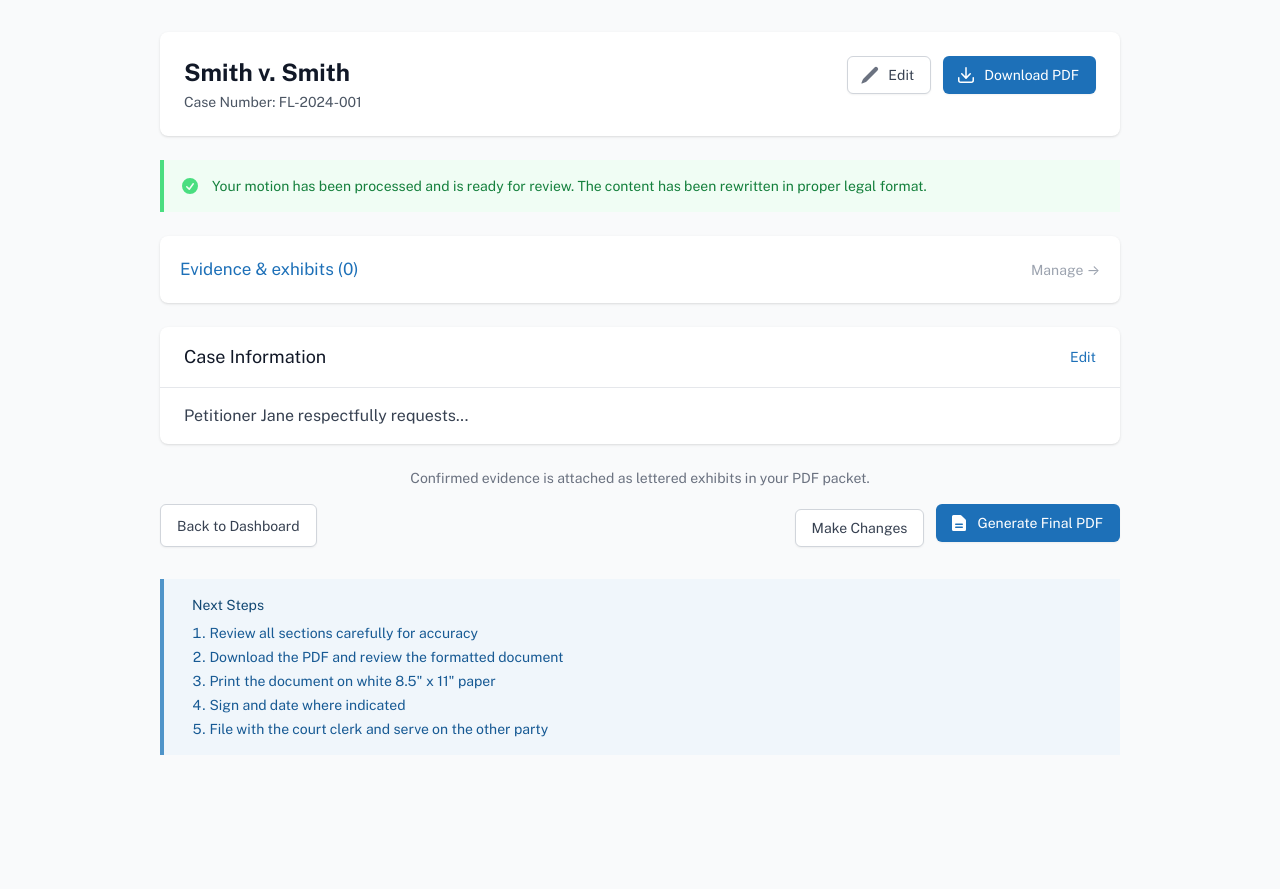
MotionPreview › shows the filing checklist only after the PDF is downloaded
The width and height of the screenshot is (1280, 889).
Expected: the heading "Smith v. Smith" is shown, [184,56,362,88]
Expected: the heading "filing checklist" is not shown
Click the button "Download PDF": click(1020, 75) [943,56,1096,94]
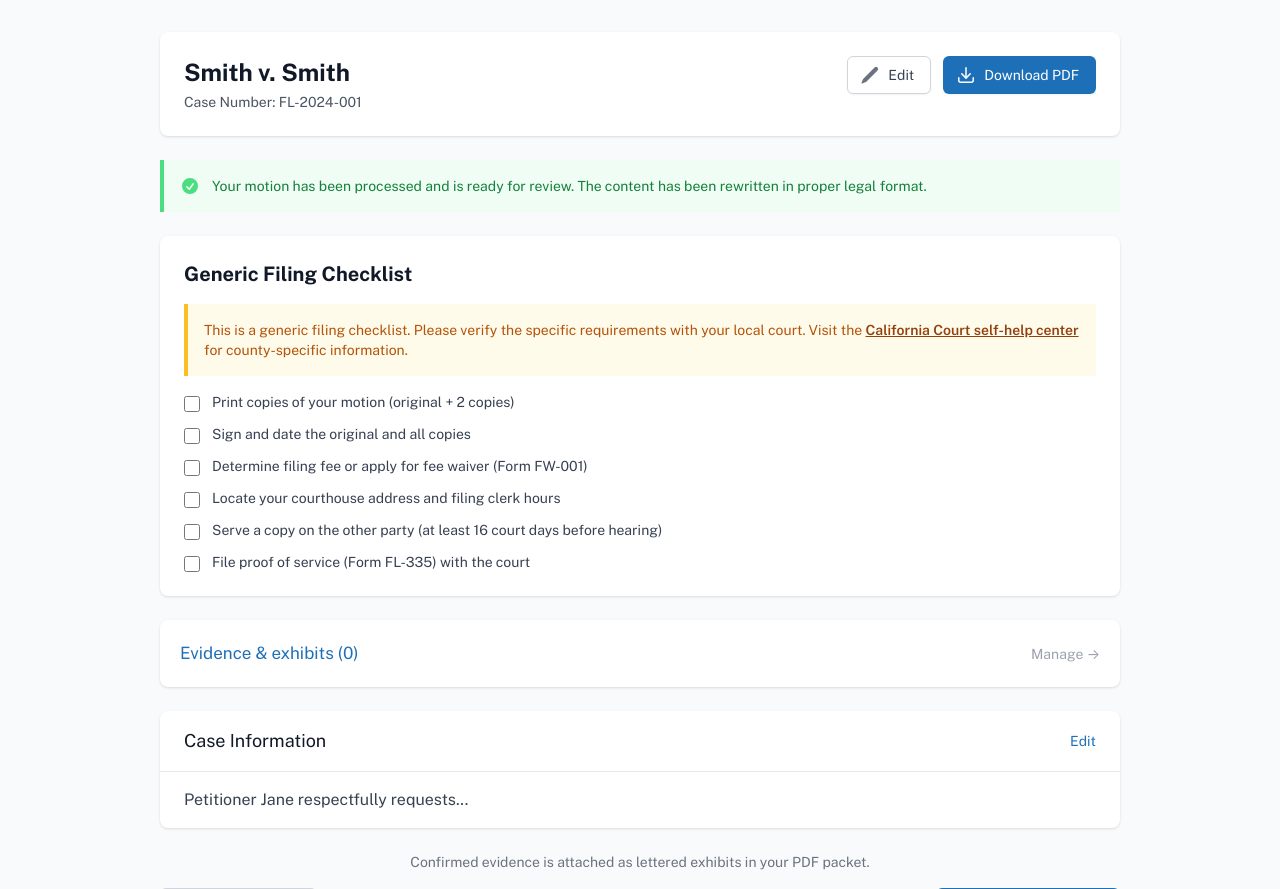
Result: the heading "Generic Filing Checklist" is shown at [184,262,412,286]
